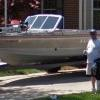Boat: (0, 15, 95, 76)
